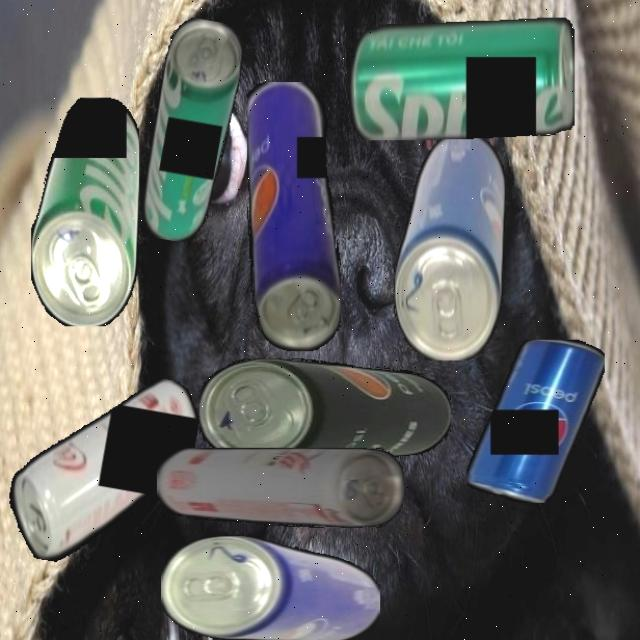debris: (0, 356, 205, 582), (348, 17, 575, 140), (199, 358, 451, 463), (135, 15, 248, 247), (246, 81, 341, 351), (393, 133, 505, 361), (30, 97, 139, 326), (161, 534, 380, 640), (466, 340, 604, 503), (156, 448, 404, 528)
